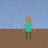person: (23, 17, 34, 39)
